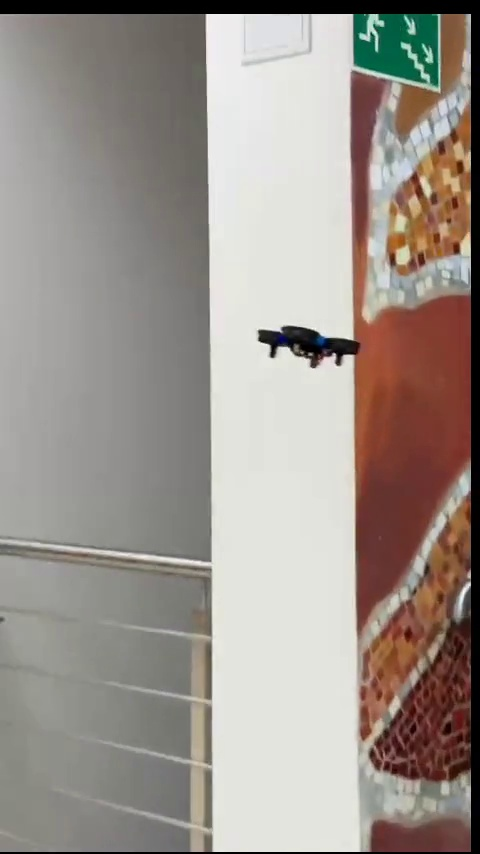drone: (258, 327, 361, 370)
